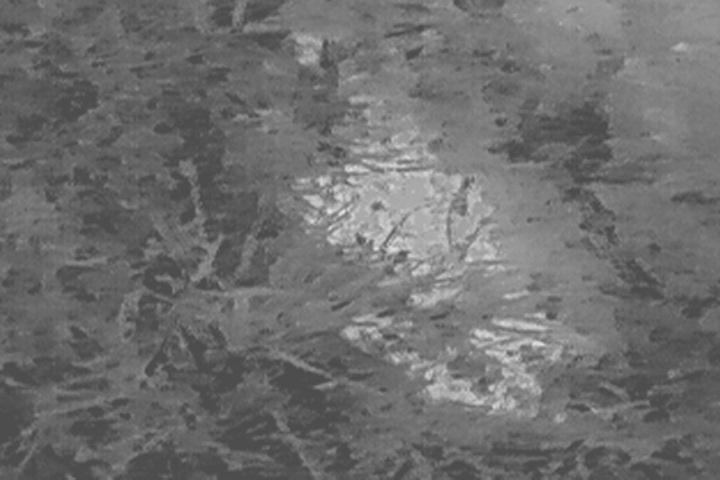landmine: (266, 42, 571, 420)
